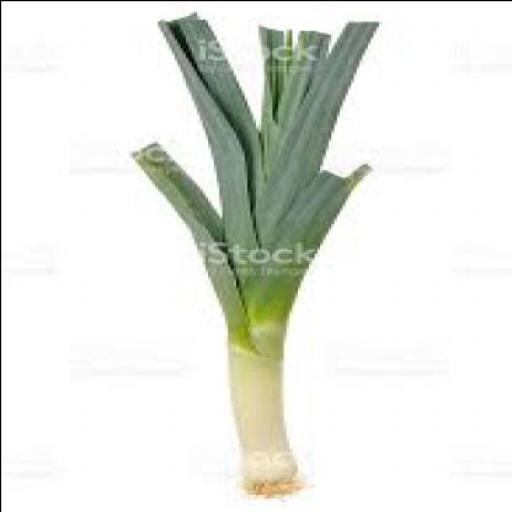biodegradable: (123, 7, 375, 490)
